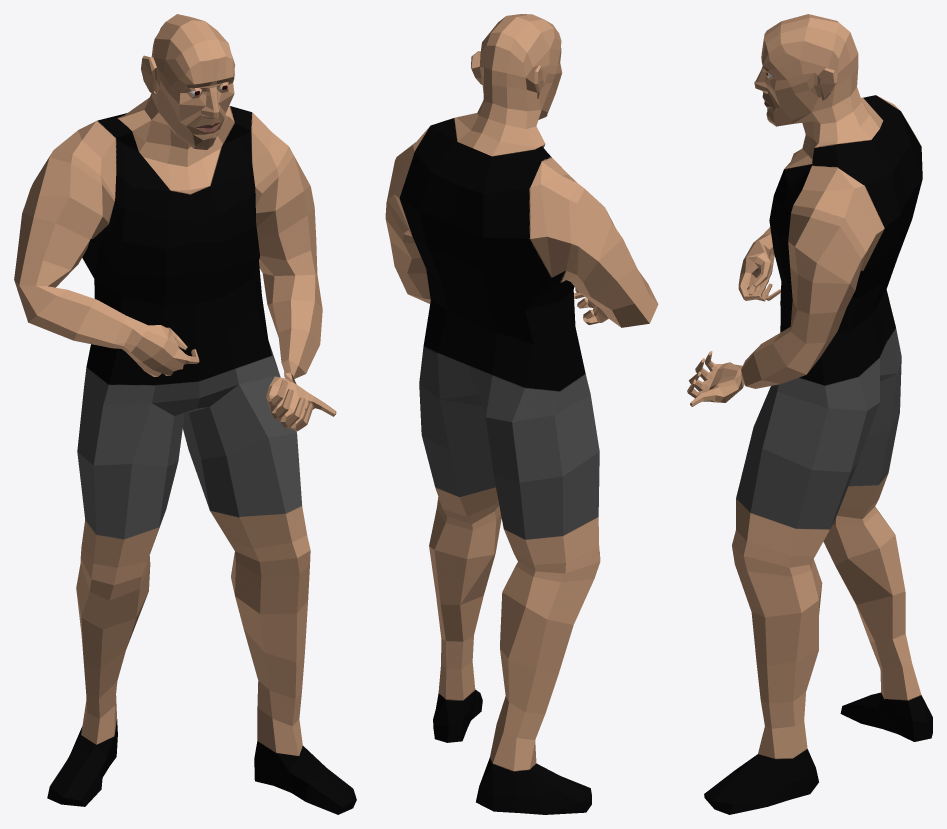
File: PlayerIdle(215).obj
The picture shows the model from 3 angles, left to right: view 1: azimuth 30°, elevation 25°; view 2: azimuth 150°, elevation 25°; view 3: azimuth 270°, elevation 25°; orthographic projection. The views are drawn at different scales.
Parts seen in each view (by area): view 1: Plane002; view 2: Plane002; view 3: Plane002.
Part boxes in pixels (box(x1,y1,x2,y2)): Plane002: box(14, 14, 356, 814); Plane002: box(385, 14, 658, 814); Plane002: box(687, 14, 932, 814).
Bounding box in the file's own units: 677 × 1800 × 542.
